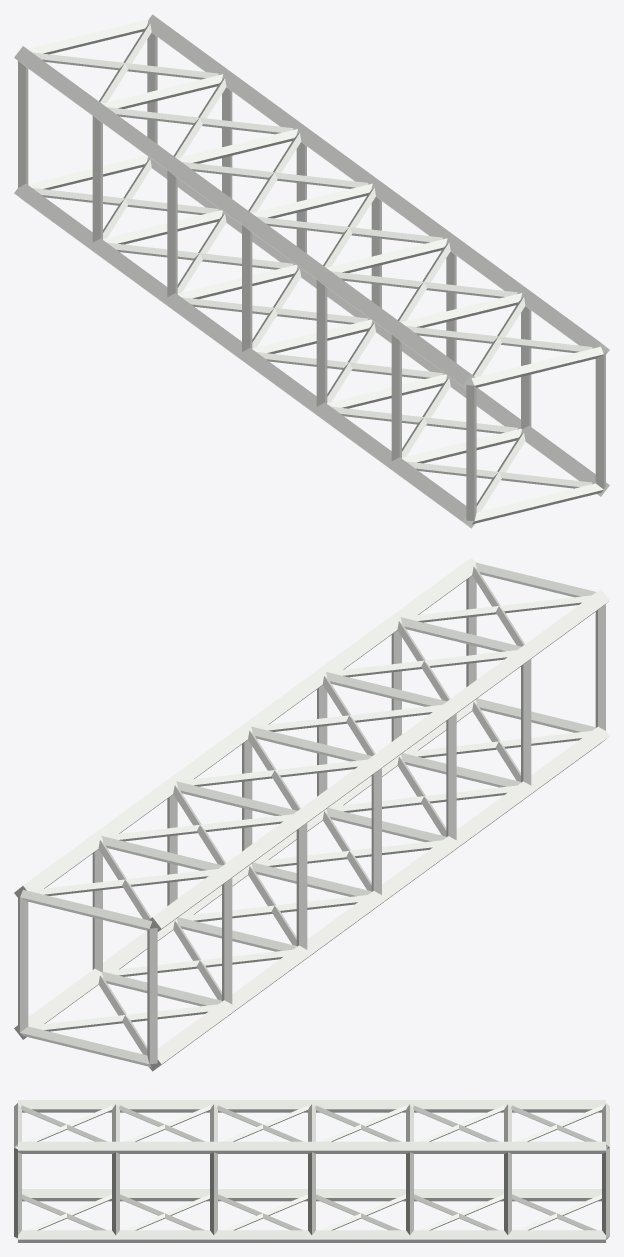
Rendered from prop29.FBX.
3 renders of one model, top to bottom at view 1: azimuth 30°, elevation 25°; view 2: azimuth 150°, elevation 25°; view 3: azimuth 270°, elevation 25°, orthographic. The views are drawn at different scales.
Visible parts, largest first — view 1: prop29; view 2: prop29; view 3: prop29.
Part boxes in pixels (x1,y1,x2,y2): prop29: (14,14,609,528); prop29: (14,557,609,1071); prop29: (14,1100,609,1242).
Bounding box in the file's own units: 7.06 × 7.06 × 37.67.
